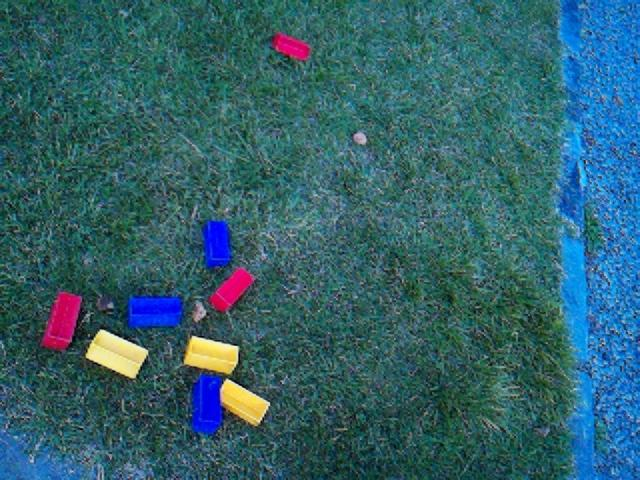blue: (190, 373, 225, 436), (127, 294, 184, 330), (201, 218, 233, 270)
red: (40, 290, 83, 352), (208, 266, 256, 314), (271, 31, 312, 63)
yellow: (85, 328, 150, 380), (219, 378, 271, 427), (183, 335, 241, 376)
